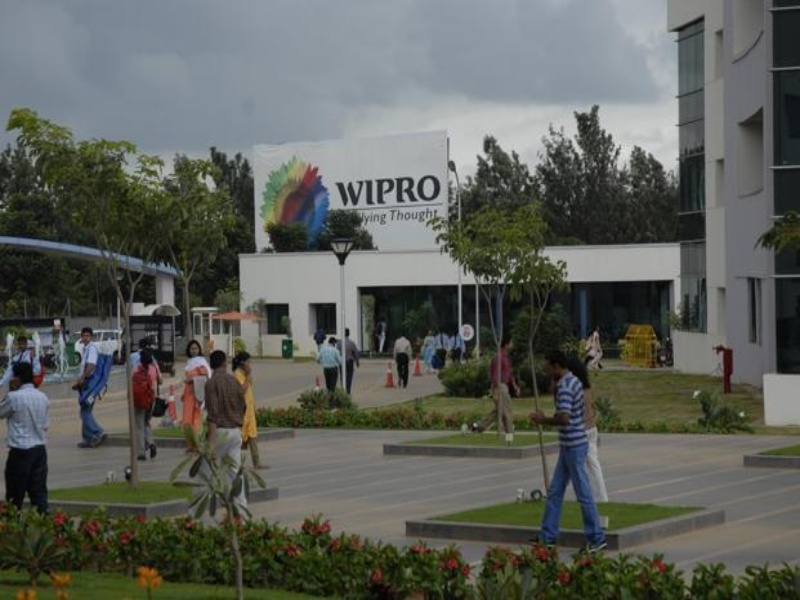wipro: (259, 156, 336, 234)
